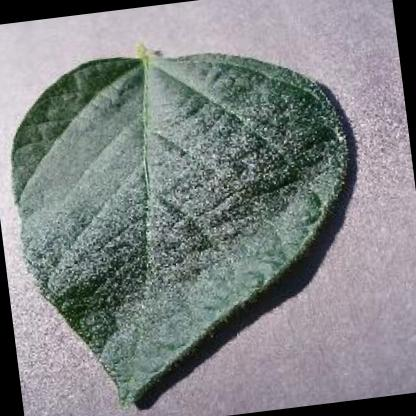soy: (0, 19, 398, 416)
